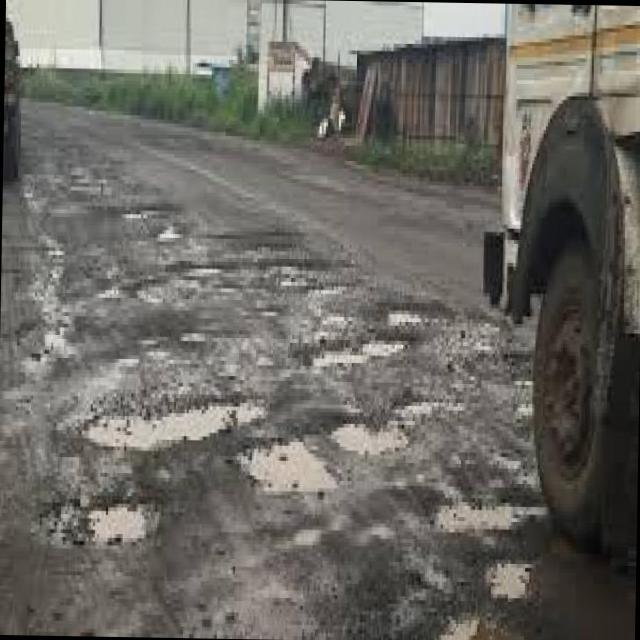Pothole: (85, 395, 244, 450), (238, 441, 339, 495), (326, 306, 420, 359), (67, 507, 152, 549), (27, 311, 66, 384), (352, 401, 419, 443), (457, 502, 534, 529), (497, 563, 527, 598), (281, 445, 305, 487), (440, 616, 479, 640), (130, 275, 169, 298), (178, 261, 218, 280), (179, 329, 209, 345), (116, 519, 133, 541)
